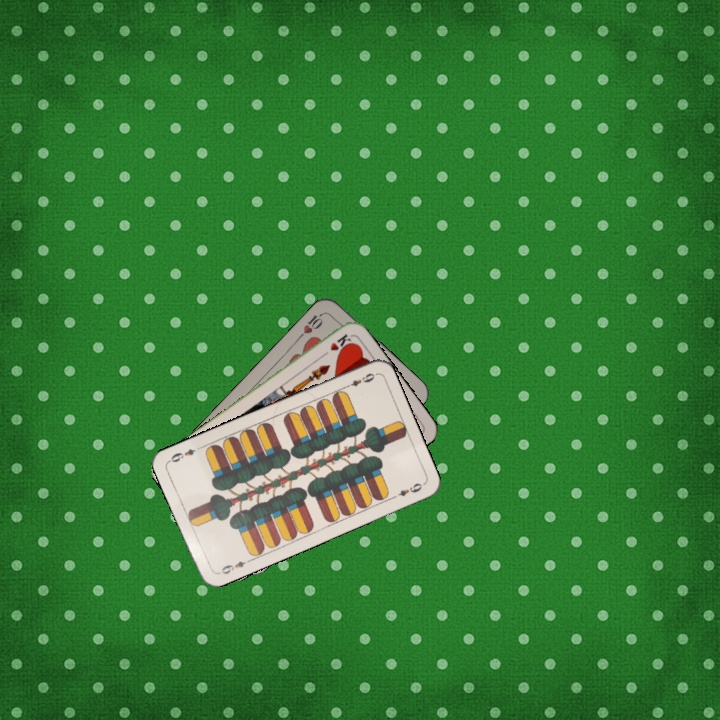E9: (340, 369, 378, 391), (214, 556, 253, 577)
H10: (295, 308, 327, 341)
HK: (317, 330, 353, 360)
